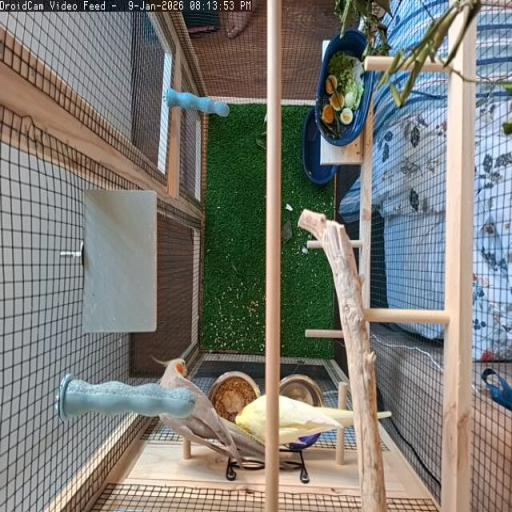bebedero: (280, 375, 326, 405), (290, 434, 320, 449)
comedero: (209, 371, 260, 422)
ninfa: (157, 359, 267, 461), (279, 396, 354, 443)
